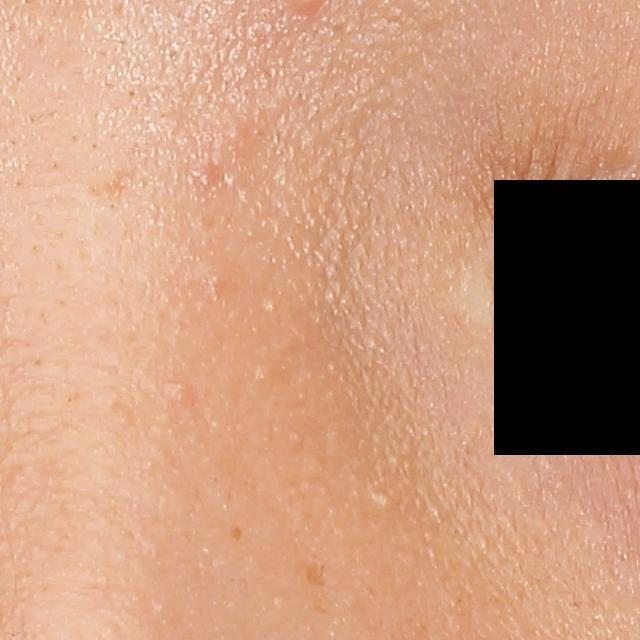comedo: (164, 372, 192, 409), (374, 493, 391, 510)
melasma: (300, 560, 326, 589), (227, 523, 245, 542)
